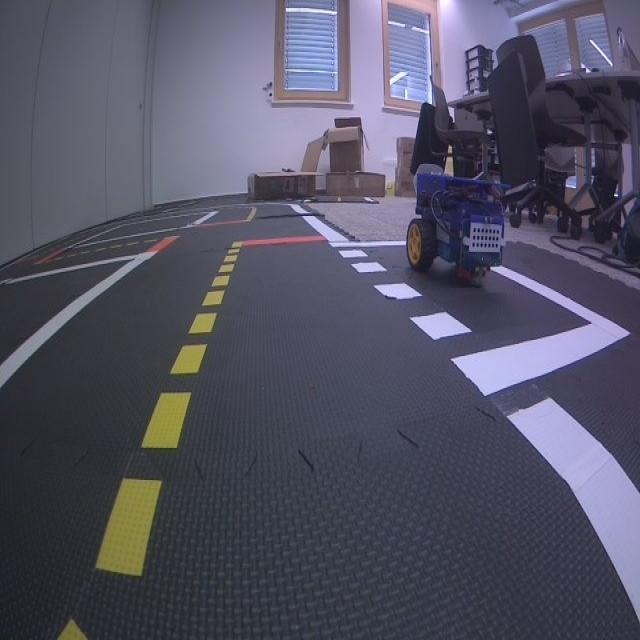bot: (404, 170, 510, 289)
park: (330, 238, 632, 395)
